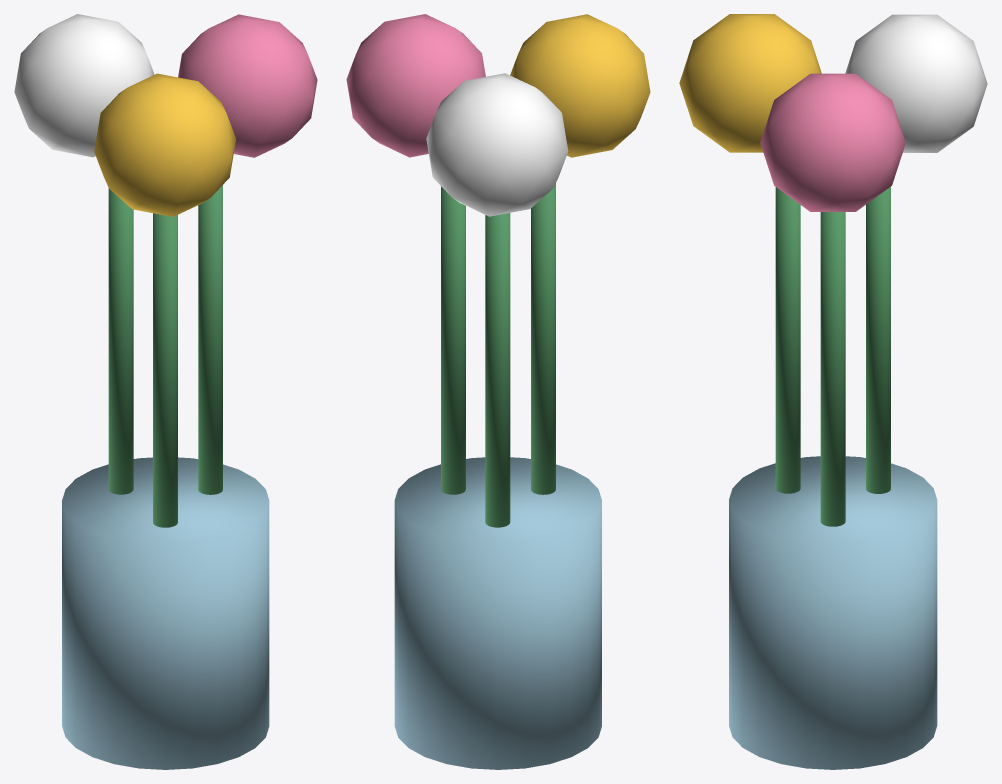
Rendered from keepsake_flower_vase.glb.
The picture shows the model from 3 angles, left to right: view 1: azimuth 30°, elevation 25°; view 2: azimuth 150°, elevation 25°; view 3: azimuth 270°, elevation 25°; orthographic projection.
Visible parts, largest first — view 1: vase, petal.001, petal, petal.002, stem.001, stem.002, stem; view 2: vase, petal.002, petal.001, petal, stem.002, stem.001, stem; view 3: vase, petal, petal.002, petal.001, stem, stem.001, stem.002.
Part boxes in pixels (x1,y1,x2,y2): vase: (62,457,269,769); petal.001: (94,73,235,216); petal: (178,14,317,157); petal.002: (14,14,154,157); stem.001: (153,213,177,527); stem.002: (108,188,133,494); stem: (198,185,222,494); vase: (394,457,601,769); petal.002: (426,73,568,216); petal.001: (510,14,650,157); petal: (346,14,485,157); stem.002: (485,213,510,527); stem.001: (531,183,555,494); stem: (441,186,465,494); vase: (729,456,937,769); petal: (760,73,905,211); petal.002: (845,14,987,152); petal.001: (679,14,821,152); stem: (820,212,845,526); stem.001: (775,187,800,493); stem.002: (866,186,890,493).
Size of the model in its own units: 0.1343 by 0.365 by 0.1481.
